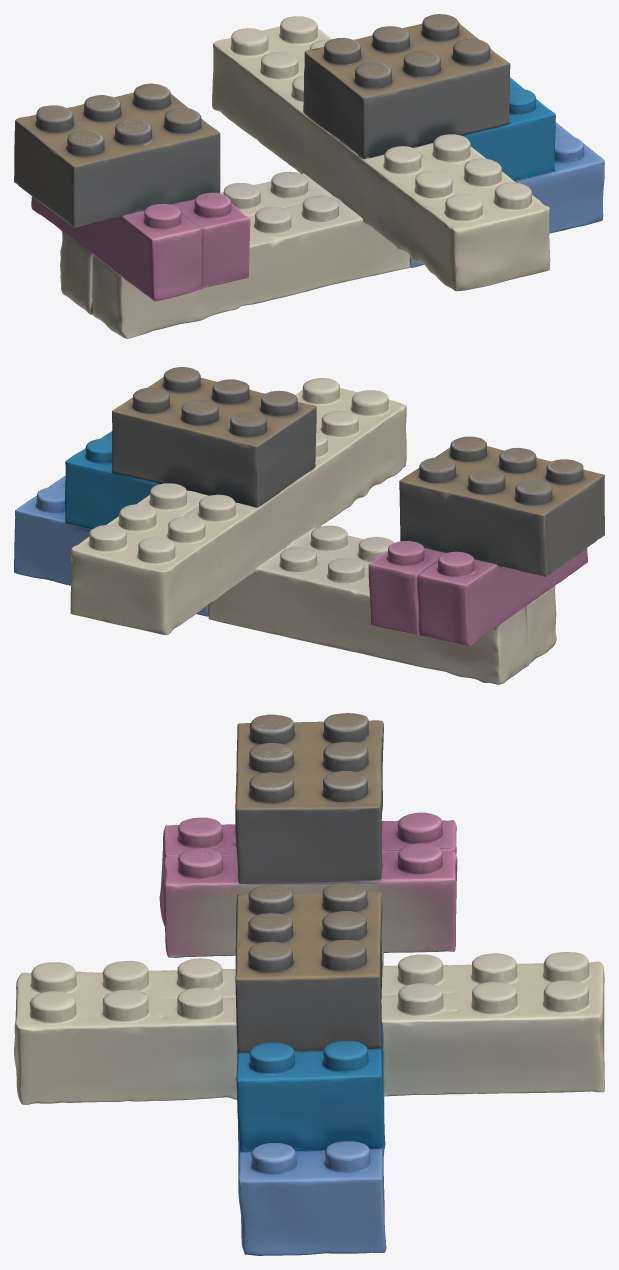
File: lego mini model 3d.glb
3 views of the same model, one above another, from view 1: azimuth 30°, elevation 25°; view 2: azimuth 150°, elevation 25°; view 3: azimuth 270°, elevation 25° (orthographic). The views are drawn at different scales.
Parts seen in each view (by area): view 1: tripo_node_9d1ea718-6da5-418c-bebe-c27df8105d07; view 2: tripo_node_9d1ea718-6da5-418c-bebe-c27df8105d07; view 3: tripo_node_9d1ea718-6da5-418c-bebe-c27df8105d07.
Boxes of the visible parts, bbox=[...] form: tripo_node_9d1ea718-6da5-418c-bebe-c27df8105d07: bbox=[14, 14, 604, 338]; tripo_node_9d1ea718-6da5-418c-bebe-c27df8105d07: bbox=[14, 367, 604, 684]; tripo_node_9d1ea718-6da5-418c-bebe-c27df8105d07: bbox=[14, 713, 604, 1255].
Size of the model in its own units: 1 by 0.3604 by 0.8011.
1 material, 1 textured.
